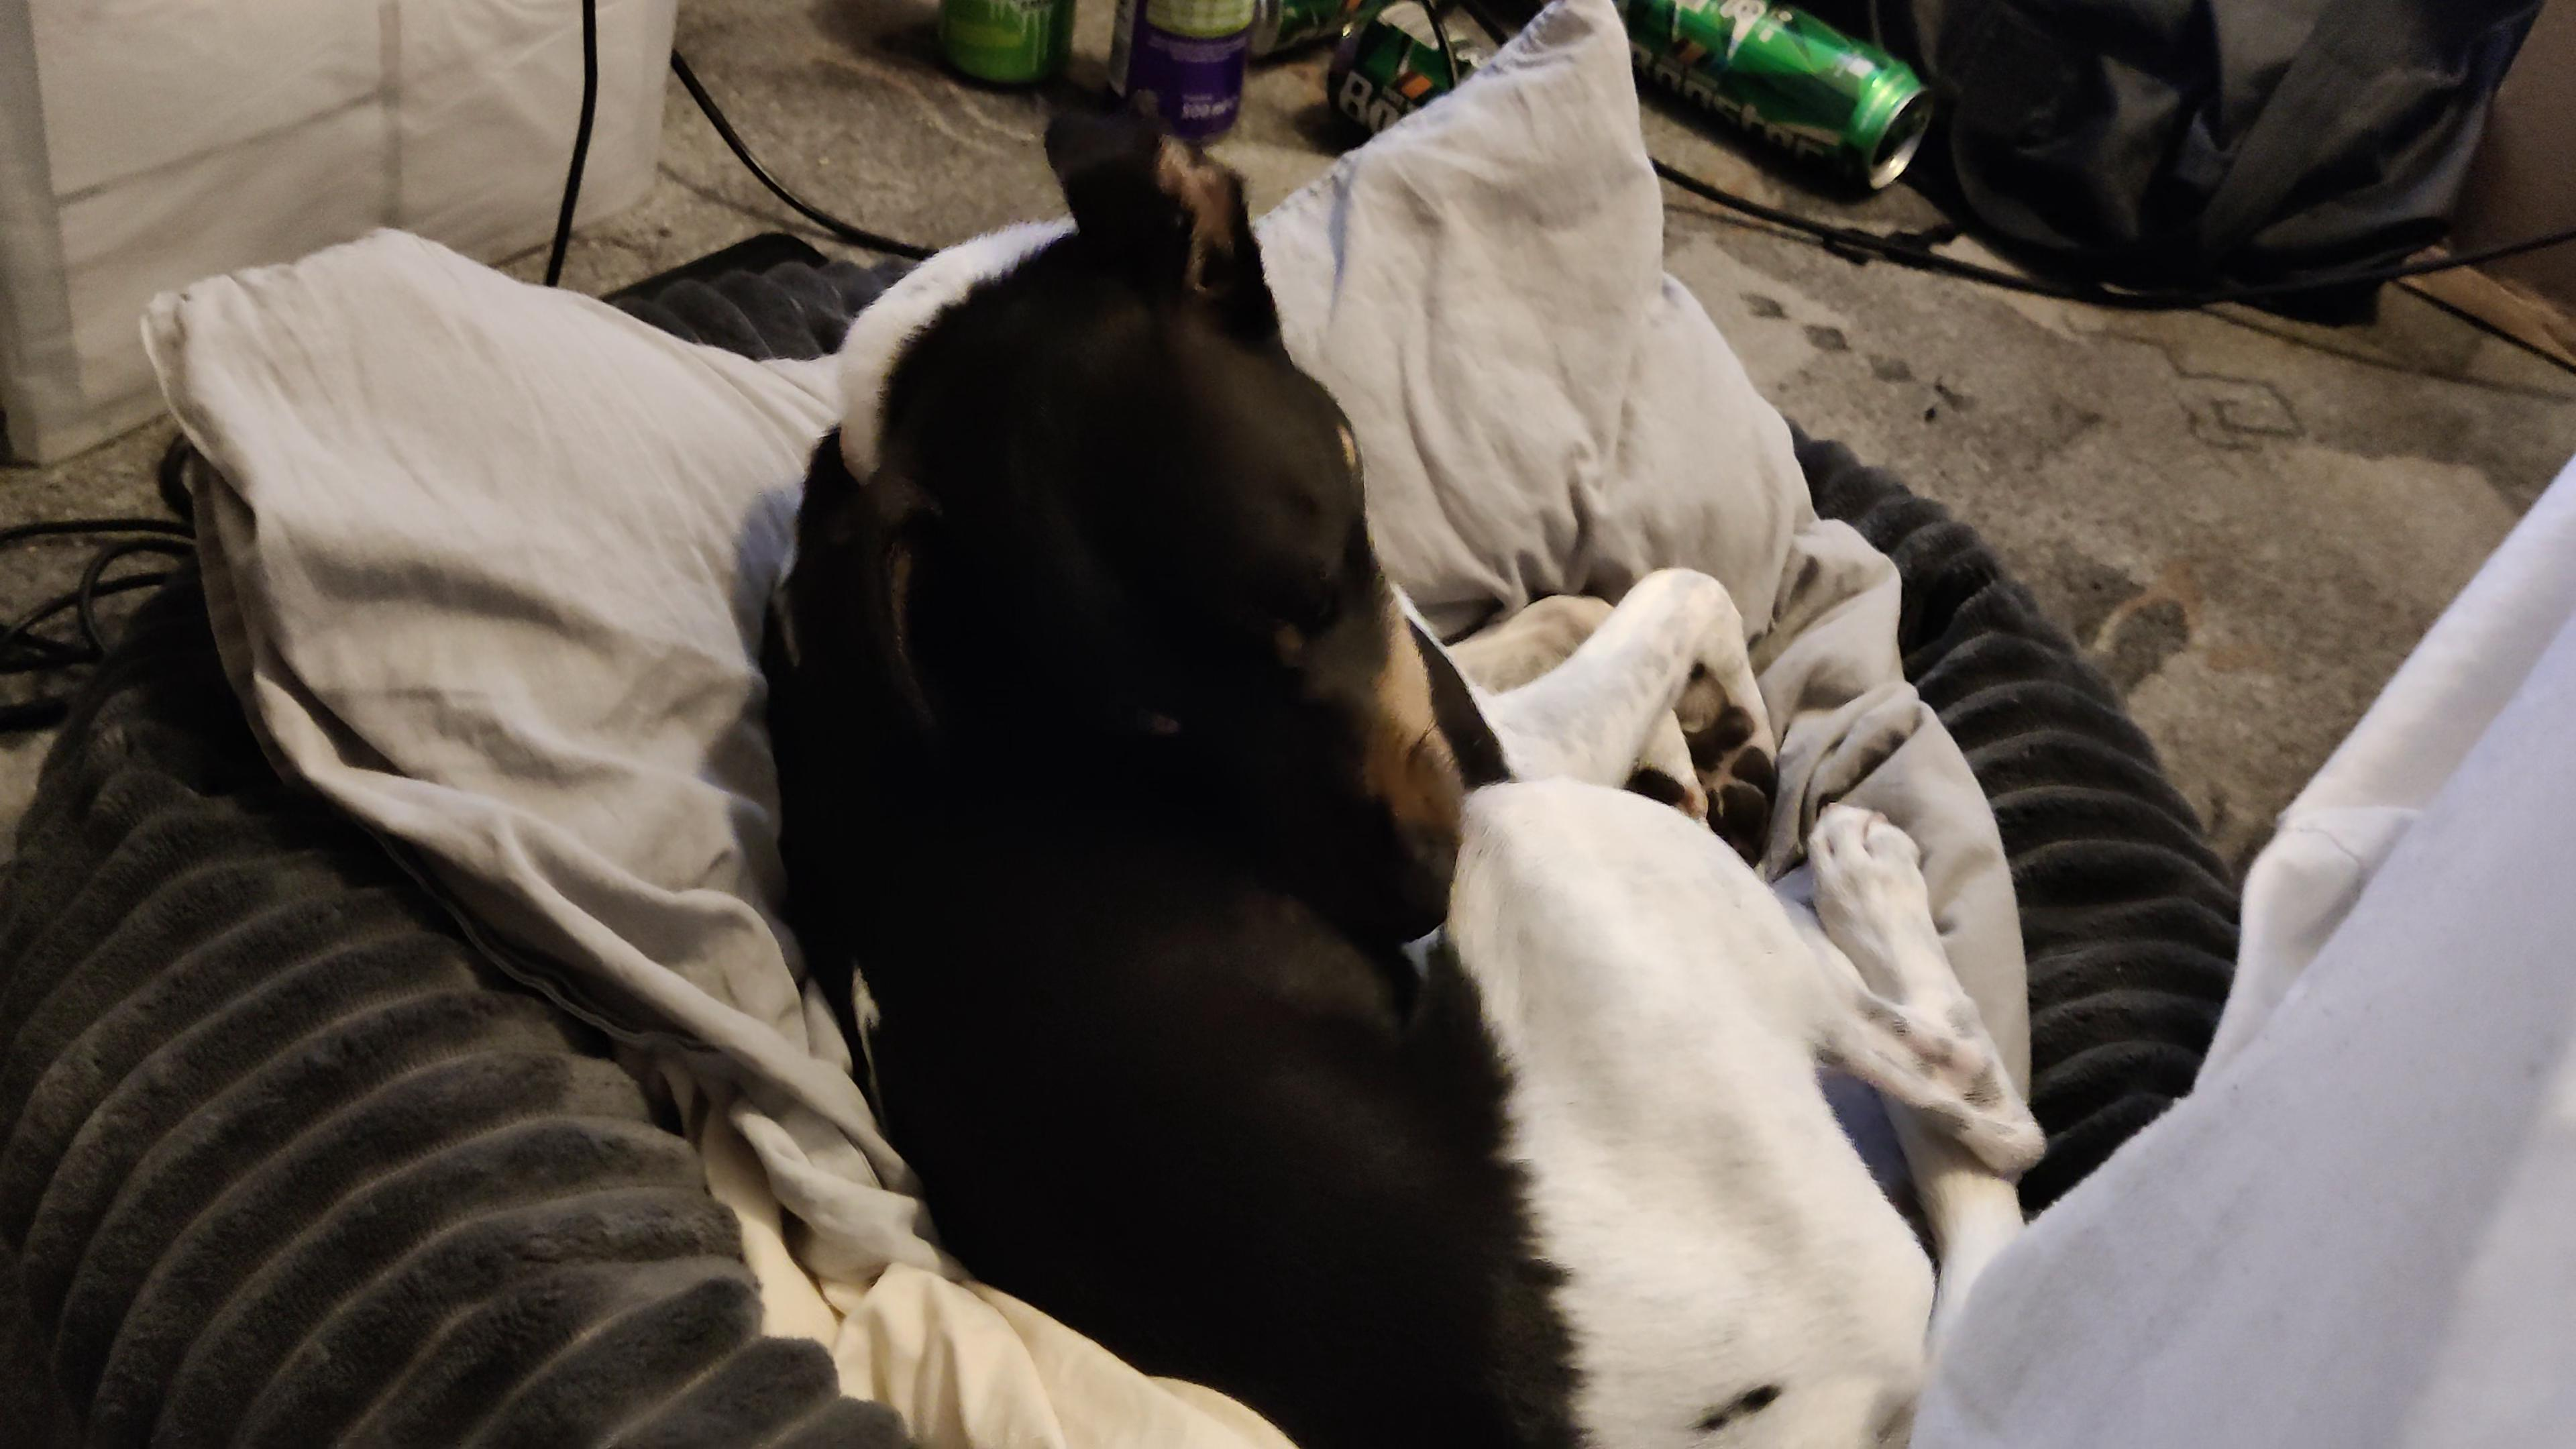Dog: (731, 60, 2075, 1449)
